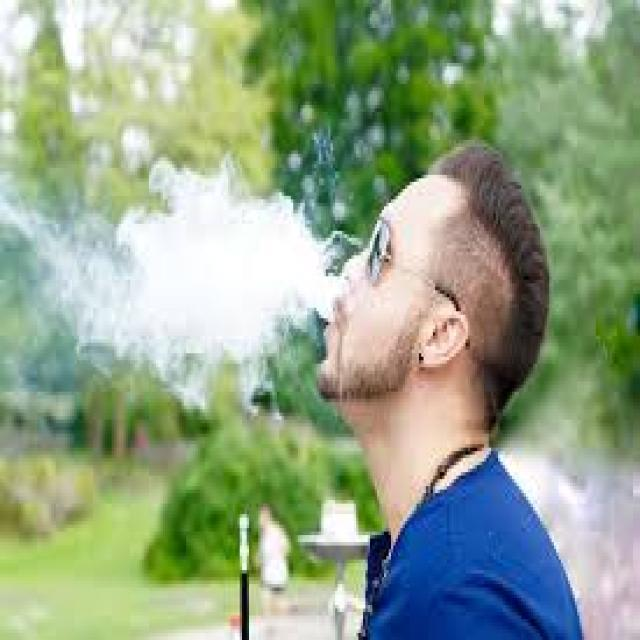Smoke: (0, 113, 365, 423)
